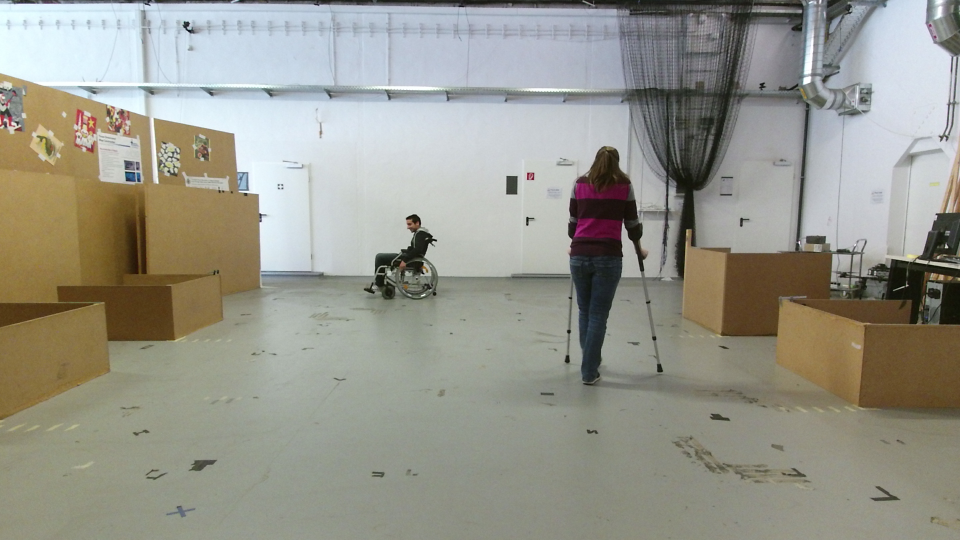crutches: (561, 141, 666, 388)
wheelchair: (364, 211, 449, 300)
